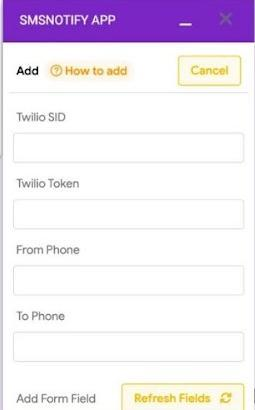button: (123, 384, 245, 410), (180, 58, 241, 87)
input: (14, 266, 246, 297), (14, 333, 246, 363), (14, 200, 245, 230), (14, 136, 246, 164)
label: (14, 391, 98, 408), (18, 14, 116, 28), (15, 109, 67, 126), (66, 64, 129, 78), (15, 178, 82, 191), (15, 245, 81, 257), (15, 311, 68, 325), (13, 64, 42, 79)
